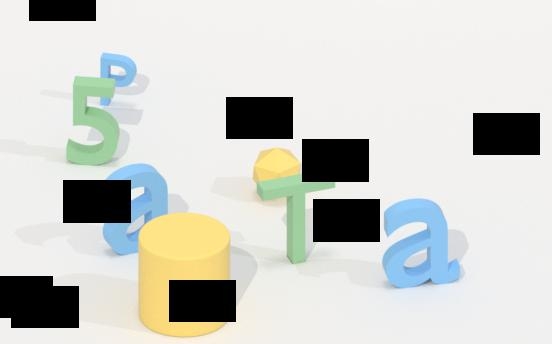5: (60, 72, 119, 171)
a: (382, 198, 459, 289), (101, 160, 173, 257)
dagiac: (251, 147, 303, 187)
p: (98, 51, 139, 110)
t-hoa: (255, 170, 339, 263)
tru: (139, 214, 230, 341)
